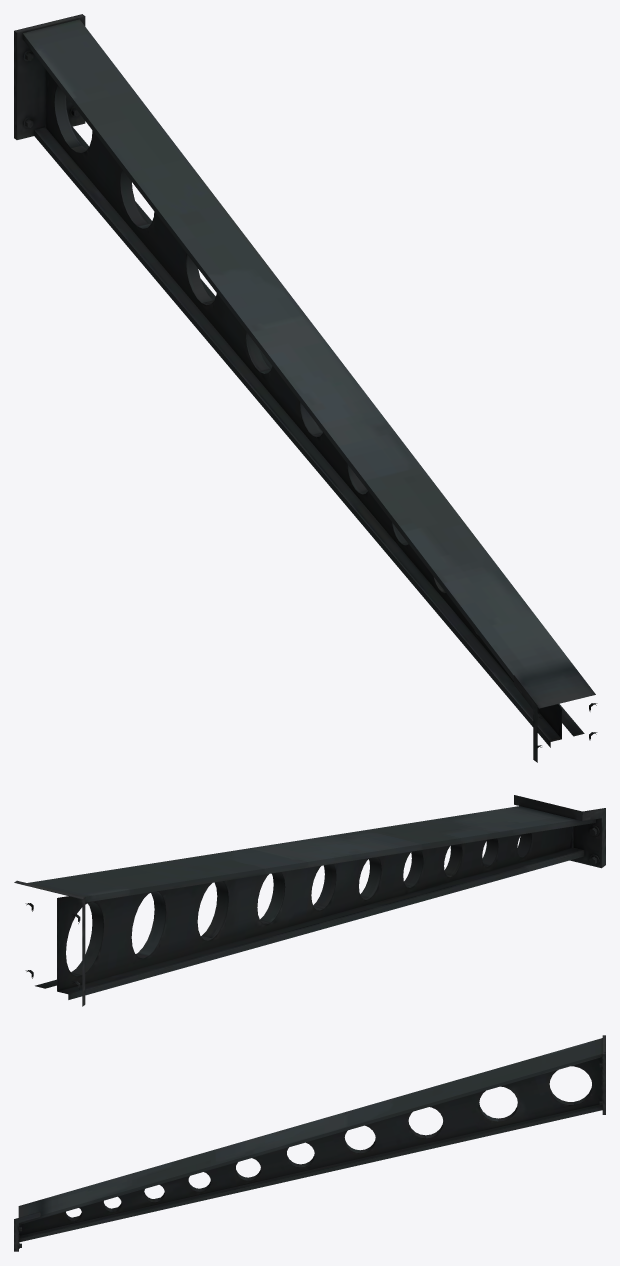
The picture shows the model from 3 angles, top to bottom: view 1: azimuth 30°, elevation 25°; view 2: azimuth 150°, elevation 25°; view 3: azimuth 270°, elevation 25°; orthographic projection. The views are drawn at different scales.
Visible parts, largest first — view 1: body0_model0_lod0_mesh0; view 2: body0_model0_lod0_mesh0; view 3: body0_model0_lod0_mesh0.
Part boxes in pixels (x1=…): body0_model0_lod0_mesh0: x1=14, y1=14, x2=597, y2=762; body0_model0_lod0_mesh0: x1=14, y1=795, x2=605, y2=1006; body0_model0_lod0_mesh0: x1=14, y1=1035, x2=605, y2=1251.
Bounding box in the file's own units: 24.01 × 117 × 318.
1 material, 1 textured.
